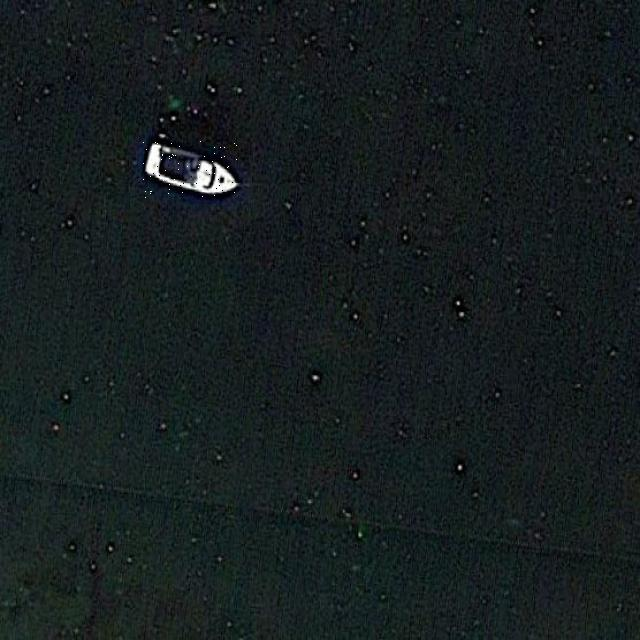boat: (143, 141, 239, 198)
